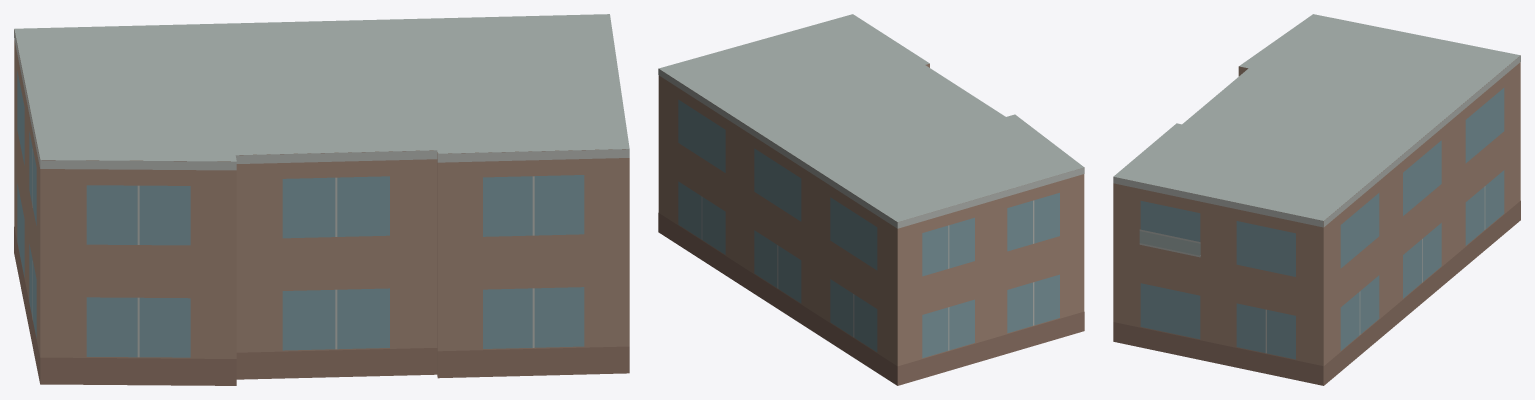
File: survey-upis-32806224.glb
3 renders of one model, left to right at view 1: azimuth 30°, elevation 25°; view 2: azimuth 150°, elevation 25°; view 3: azimuth 270°, elevation 25°, orthographic. The views are drawn at different scales.
Visible parts, largest first — view 1: survey-upis-32806224.tmp; view 2: survey-upis-32806224.tmp; view 3: survey-upis-32806224.tmp.
Part boxes in pixels (left/top/right/bottom): survey-upis-32806224.tmp: left=14, top=14, right=629, bottom=385; survey-upis-32806224.tmp: left=658, top=14, right=1084, bottom=385; survey-upis-32806224.tmp: left=1113, top=14, right=1520, bottom=385.
Size of the model in its own units: 16.42 by 6.1 by 13.66.
